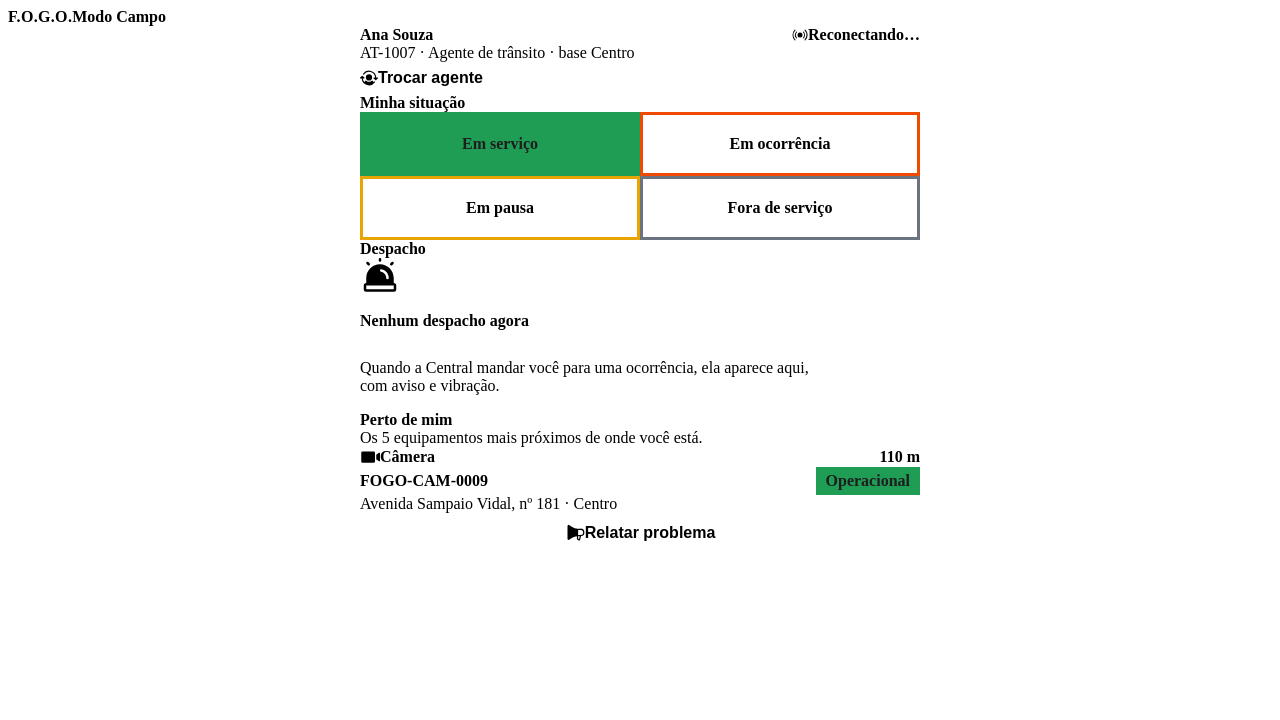
Test: Modo Campo › relato sem escolher o problema não é enviado
Click the button with aria-label "Relatar problema em FOGO-CAM-0009" at [640, 533], box [360,513,920,553]
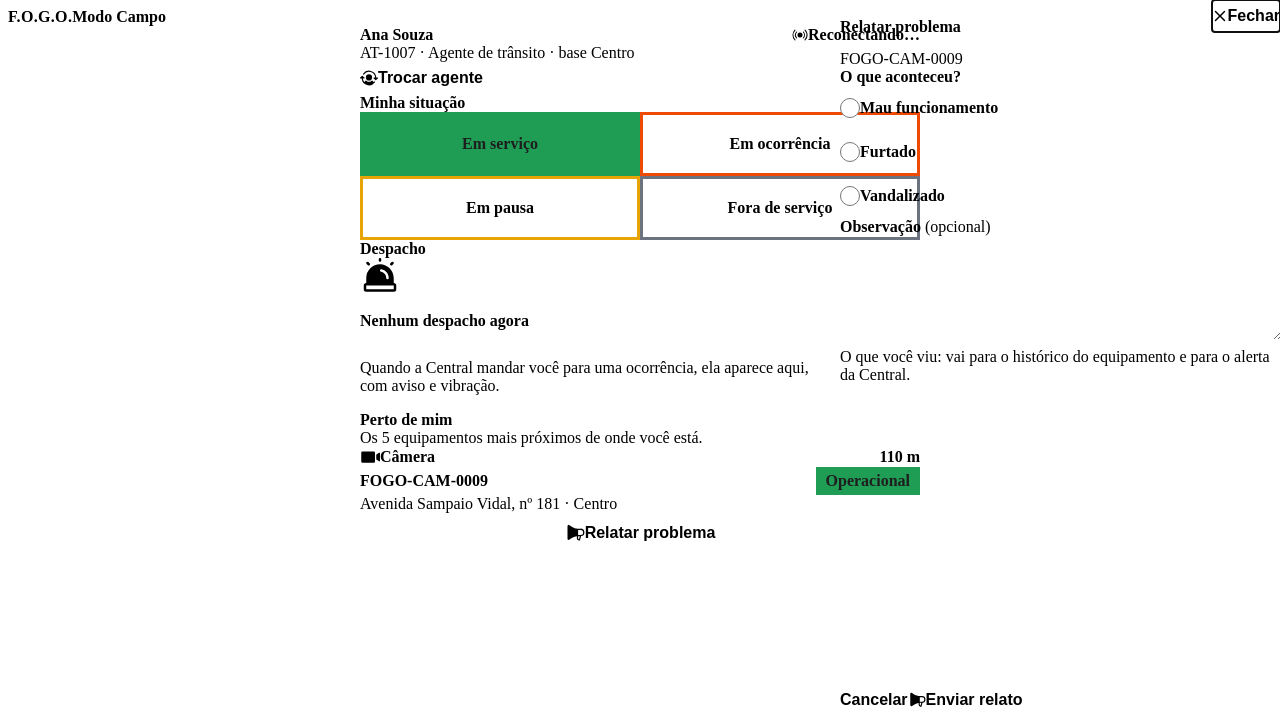
Click the button "Enviar relato" at [965, 700], box [908,680,1022,719]
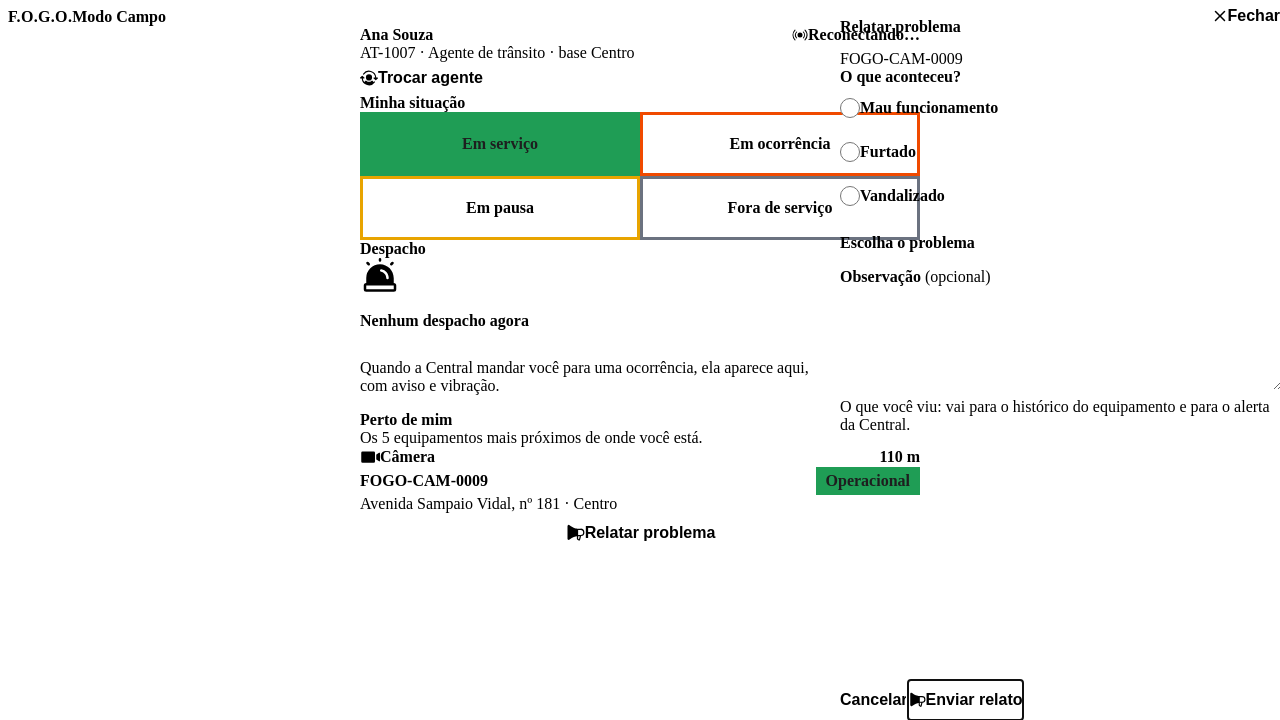
Expected: the text "Escolha o problema" is shown, [840,234,975,251]
